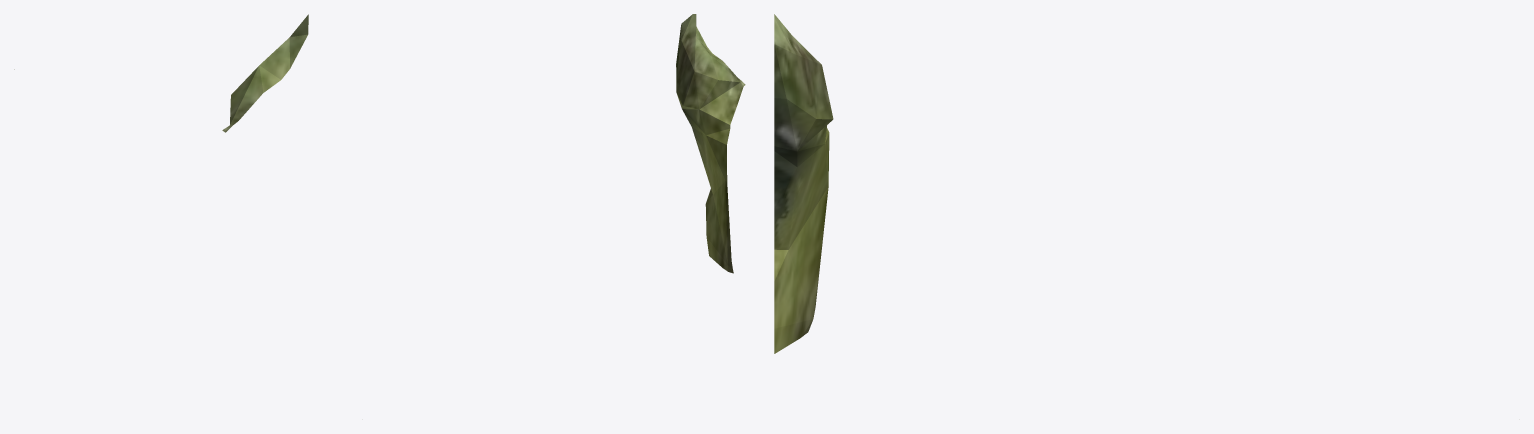
The picture shows the model from 3 angles, left to right: view 1: azimuth 30°, elevation 25°; view 2: azimuth 150°, elevation 25°; view 3: azimuth 270°, elevation 25°; orthographic projection. The views are drawn at different scales.
Size of the model in its own units: 1.45 by 2.57 by 4.98.
1 material, 1 textured.
